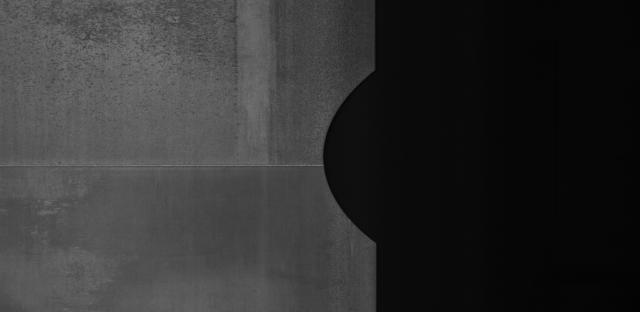crescent_gap: (315, 57, 407, 255)
welding_line: (0, 152, 342, 184)
